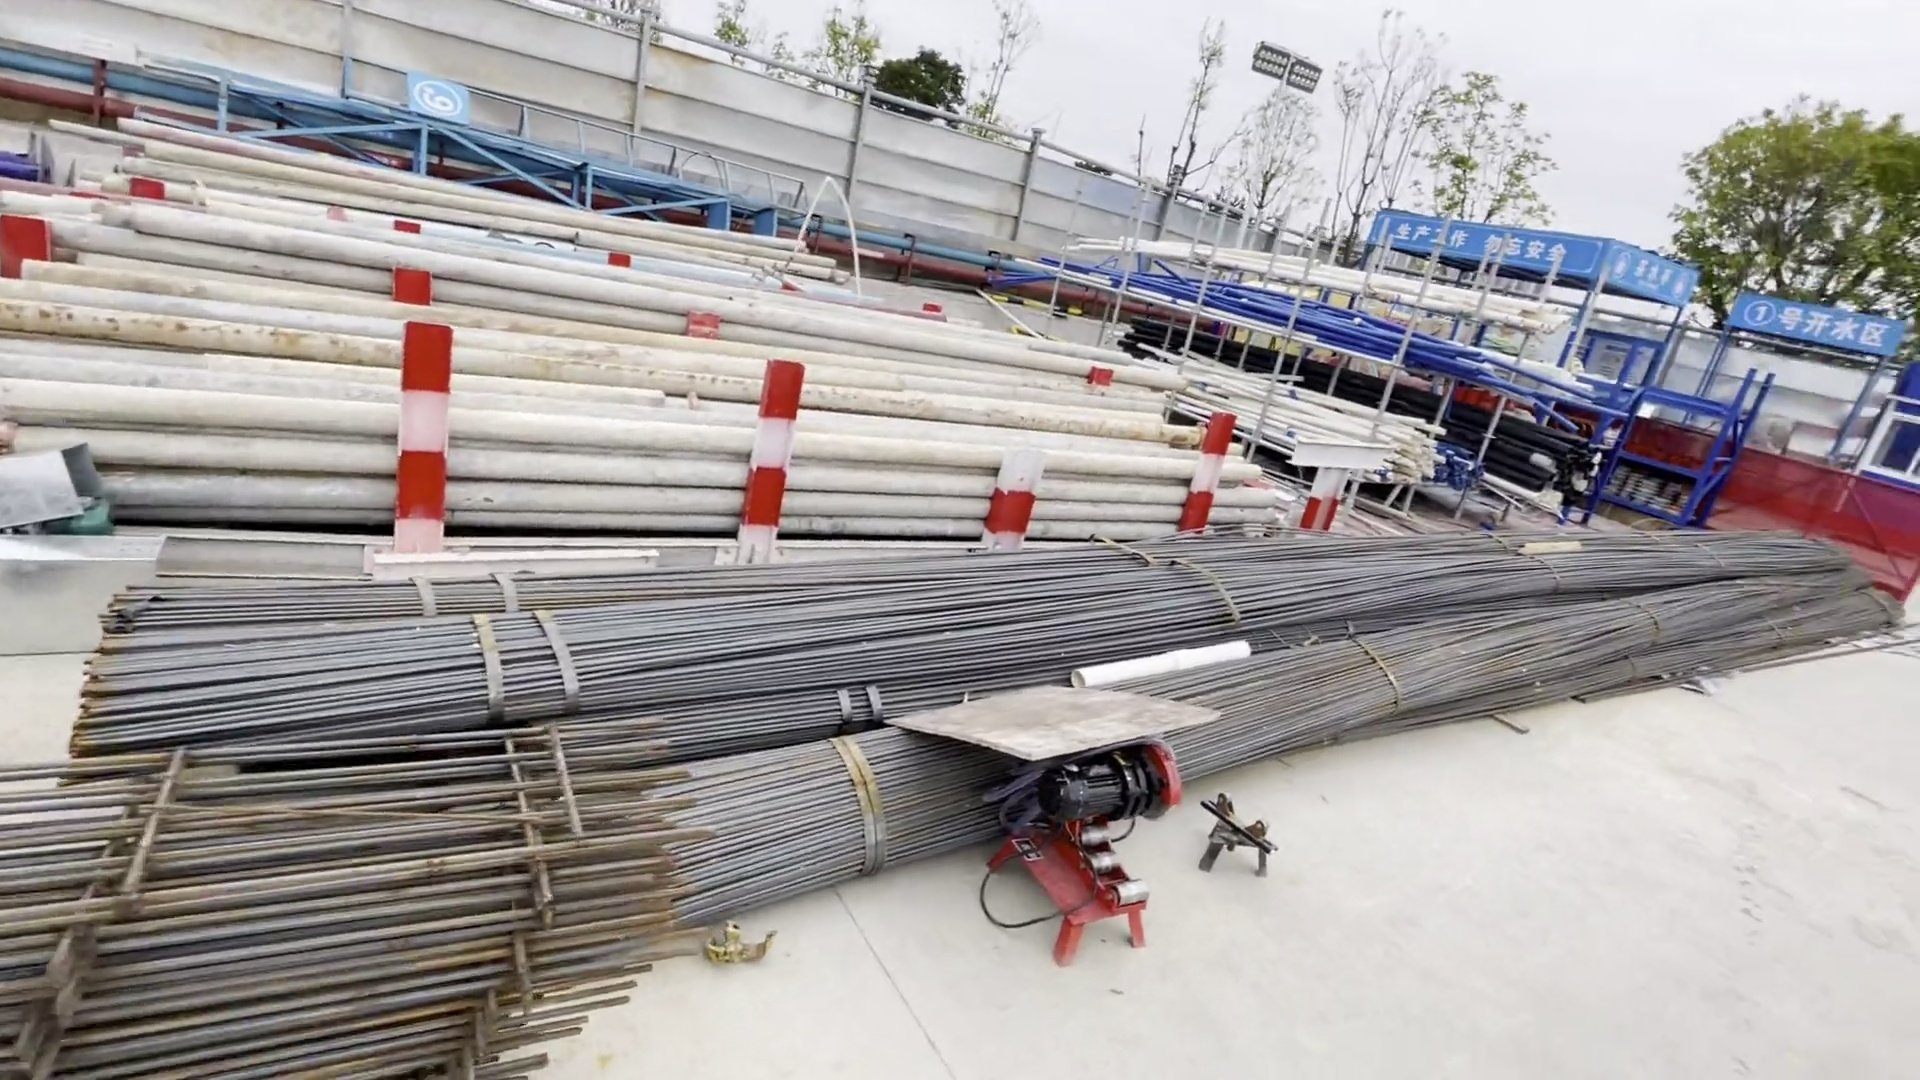cutter: (906, 655, 1241, 940)
fence: (1664, 425, 1920, 583)
rebar: (80, 529, 1895, 899), (1, 735, 680, 1069)
slogan: (1386, 207, 1565, 276)
